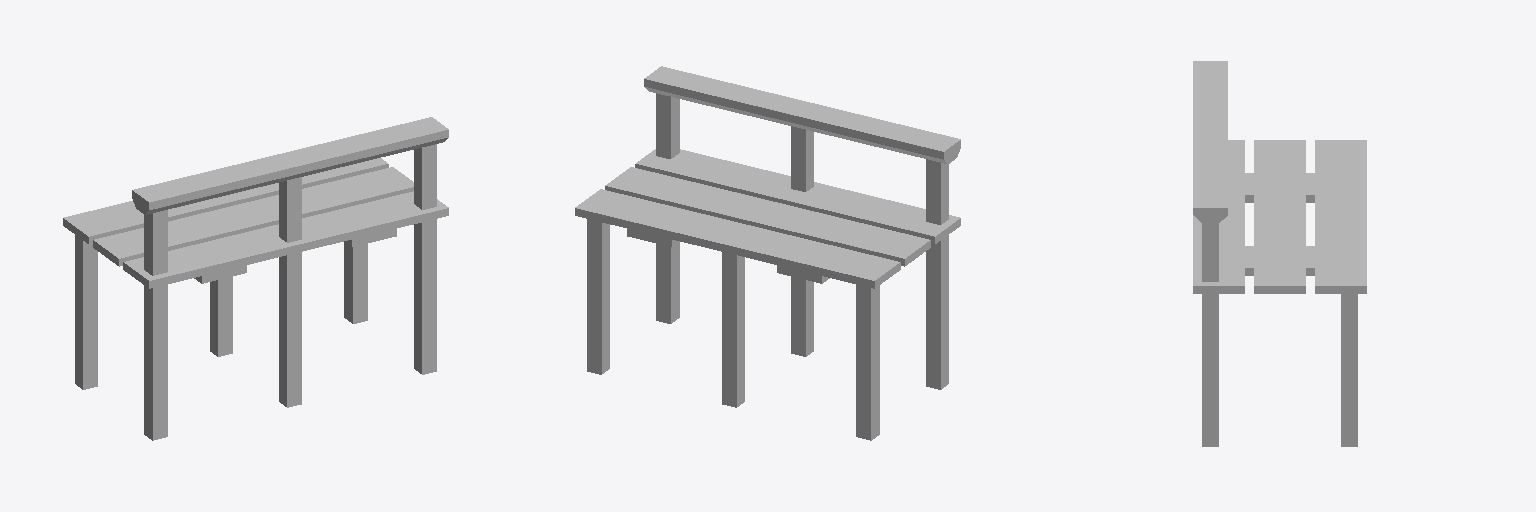
Rendered from scaffold_small_medium_railing_long.obj.
3 views of the same model, side by side, from view 1: azimuth 30°, elevation 25°; view 2: azimuth 150°, elevation 25°; view 3: azimuth 270°, elevation 25° (orthographic).
Visible parts, largest first — view 1: scaffold_small_medium_railing_long_Cube.2468; view 2: scaffold_small_medium_railing_long_Cube.2468; view 3: scaffold_small_medium_railing_long_Cube.2468.
Part boxes in pixels (x1,y1,x2,y2): scaffold_small_medium_railing_long_Cube.2468: (63, 117, 448, 440); scaffold_small_medium_railing_long_Cube.2468: (575, 66, 960, 440); scaffold_small_medium_railing_long_Cube.2468: (1193, 61, 1366, 446).
Bounding box in the file's own units: 4 × 3.1 × 2.